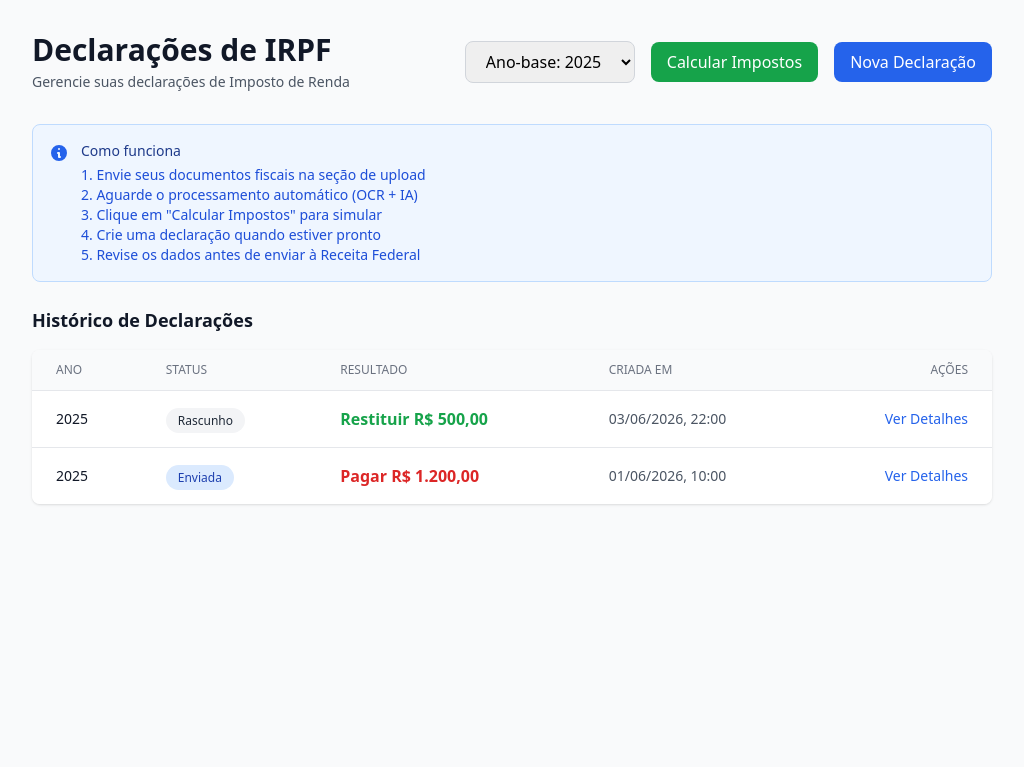
DeclarationsPage › calculates taxes
Click the button "Calcular Impostos".
click(734, 62)  # box [651,42,818,82]
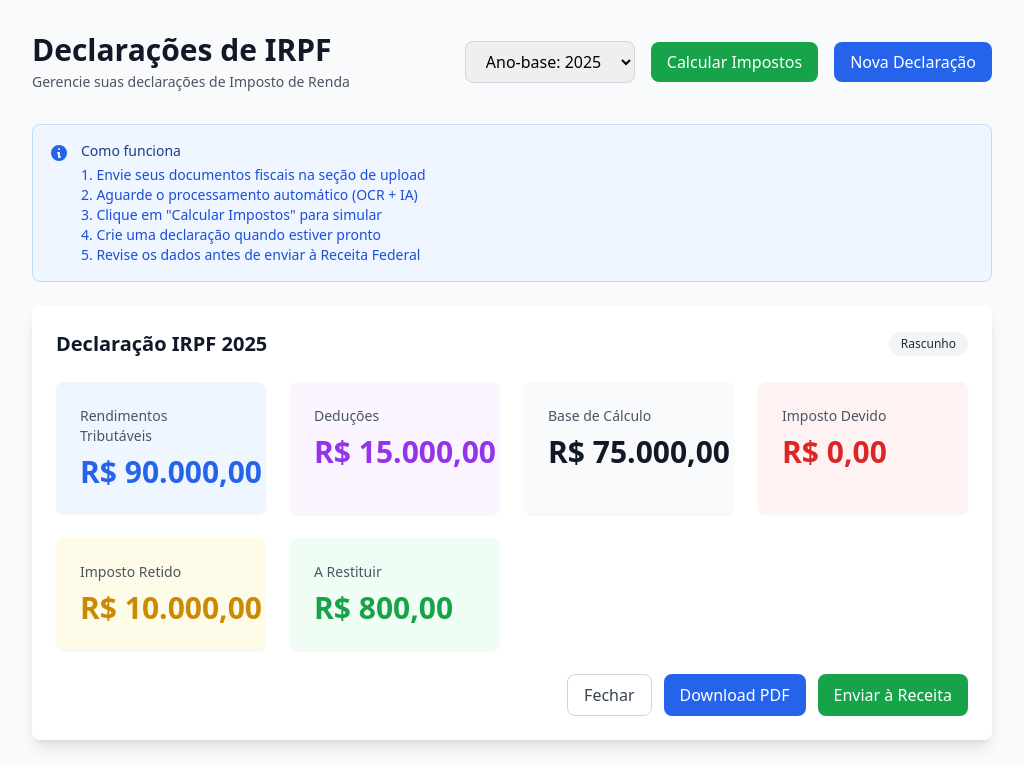
Result: the text "Rendimentos Tributáveis" is shown at [80,406,167,445]
Result: the text "R$ 90.000,00" is shown at [80,454,242,490]
Result: the text "R$ 15.000,00" is shown at [314,434,476,470]
